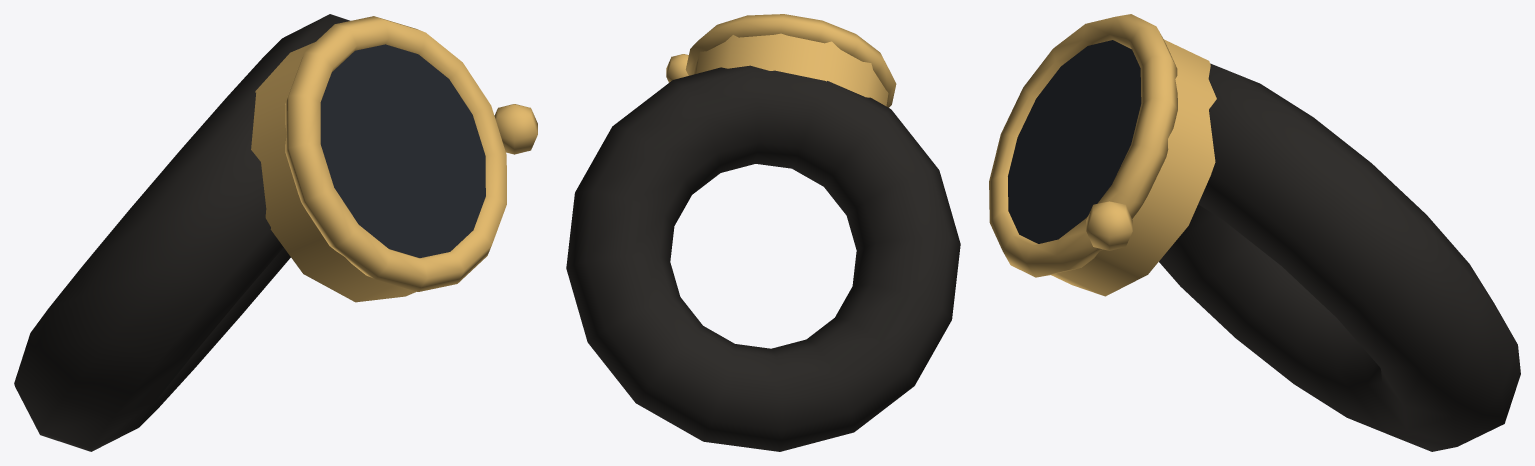
File: wristwatch_f.glb
3 views of the same model, side by side, from view 1: azimuth 30°, elevation 25°; view 2: azimuth 150°, elevation 25°; view 3: azimuth 270°, elevation 25° (orthographic). The views are drawn at different scales.
Visible parts, largest first — view 1: hair; view 2: hair; view 3: hair.
Part boxes in pixels (left/top/right/bottom): hair: left=14, top=14, right=537, bottom=451; hair: left=566, top=14, right=960, bottom=451; hair: left=989, top=14, right=1520, bottom=451.
Bounding box in the file's own units: 0.0746 × 0.0755 × 0.0797.
